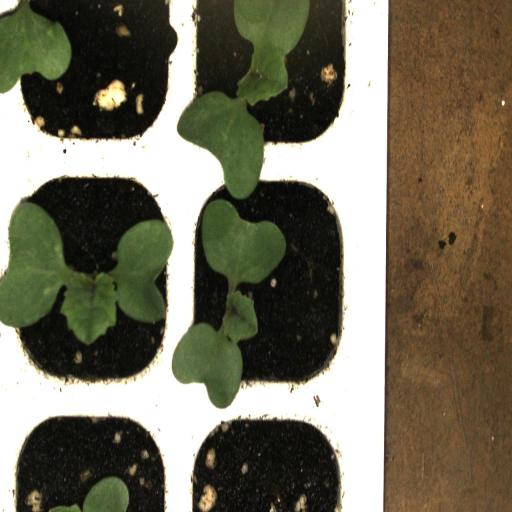seedling: (0, 161, 191, 397), (188, 164, 355, 400), (187, 0, 362, 164)
